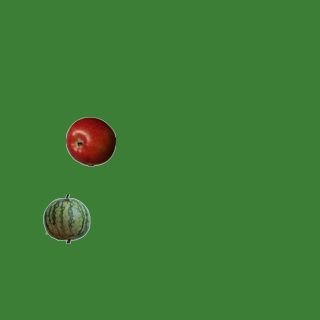Apple Braeburn: (65, 116, 115, 166)
Watermelon: (41, 193, 91, 243)
